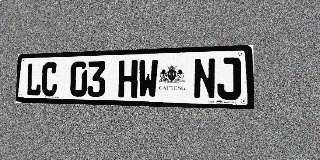0: (70, 61, 88, 97)
3: (87, 61, 106, 97)
C: (41, 62, 58, 96)
H: (118, 60, 138, 98)
J: (217, 57, 241, 100)
L: (26, 63, 42, 96)
N: (193, 58, 216, 99)
W: (138, 59, 158, 98)
